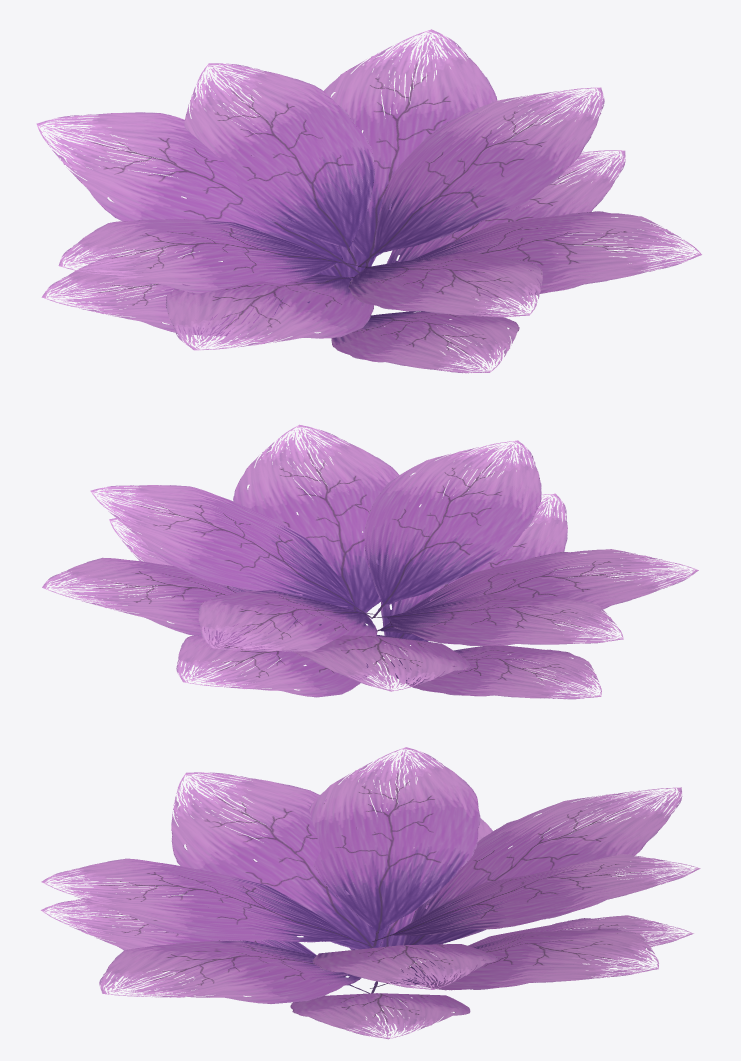
Rendered from sort-flower.gltf.
The picture shows the model from 3 angles, top to bottom: view 1: azimuth 30°, elevation 25°; view 2: azimuth 150°, elevation 25°; view 3: azimuth 270°, elevation 25°; orthographic projection. The views are drawn at different scales.
Visible parts, largest first — view 1: pPlane10, pPlane9, pPlane4, pPlane1, pPlane2, pPlane3; view 2: pPlane10, pPlane9, pPlane2, pPlane3, pPlane1, pPlane4; view 3: pPlane10, pPlane3, pPlane4, pPlane9, pPlane2, pPlane1.
Part boxes in pixels (x1,y1,x2,y2): pPlane10: (58,63,604,317); pPlane9: (41,104,625,373); pPlane4: (36,112,359,273); pPlane1: (319,29,497,268); pPlane2: (403,211,701,298); pPlane3: (165,272,373,350); pPlane10: (90,440,623,651); pPlane9: (109,493,601,699); pPlane2: (233,424,399,612); pPlane3: (377,549,698,634); pPlane1: (42,557,321,640); pPlane4: (290,635,470,691); pPlane10: (41,747,700,989); pPlane3: (171,772,389,949); pPlane4: (403,787,682,945); pPlane9: (41,818,693,1039); pPlane2: (99,940,361,1003); pPlane1: (401,928,658,990).
Size of the model in its own units: 0.0735 by 0.0166 by 0.0738.
Materials: 1 (1 with a texture image).
